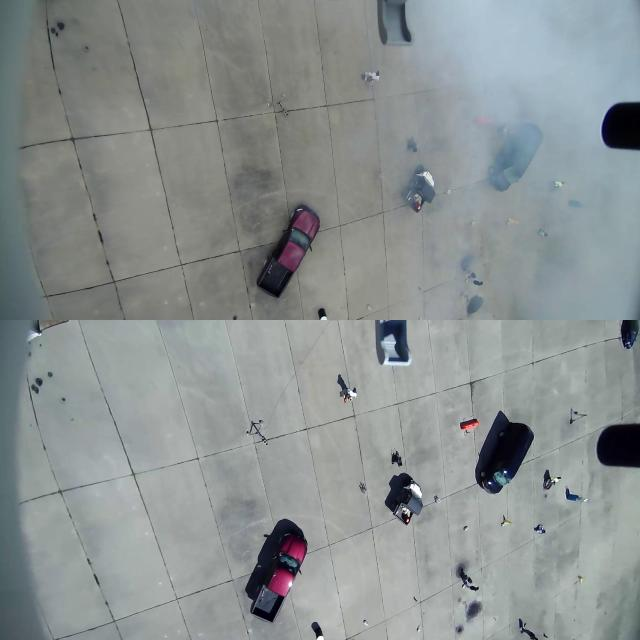car: (251, 526, 316, 630), (258, 198, 322, 298), (474, 408, 534, 492), (486, 114, 545, 199)
